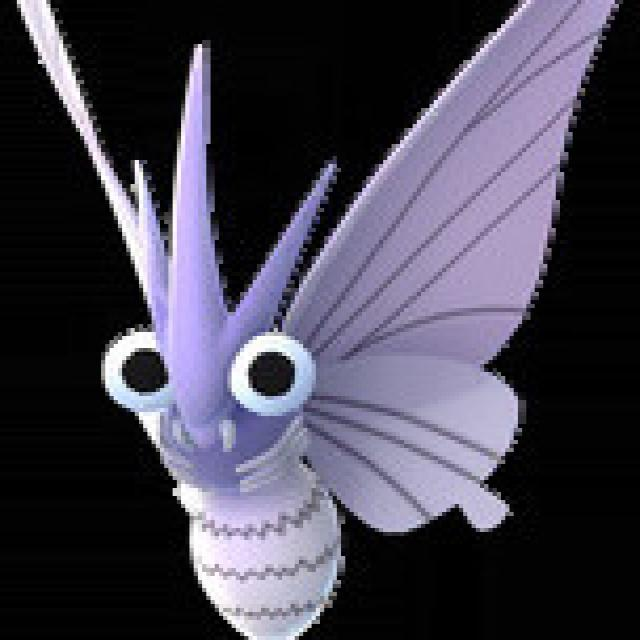Venomoth: (76, 137, 526, 640)
